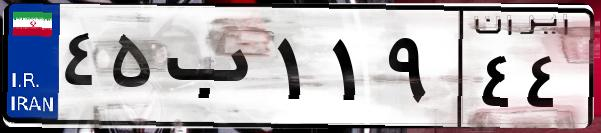1: (270, 28, 330, 110), (330, 28, 385, 110)
4: (57, 26, 110, 100), (475, 38, 525, 113), (525, 38, 570, 115)
5: (110, 28, 158, 98)
9: (385, 28, 445, 110)
ب: (158, 20, 270, 120)
